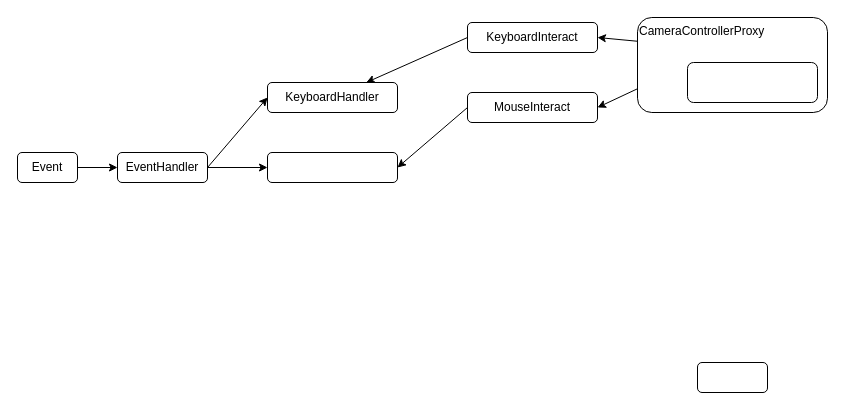
Some shapes in this 845 by 410 pixel diagram are drawn without their labels. The shapes that lost their labels are listed below. From the top down, each one's box as (x1, y1, x2, y2) in pixels, then its label:
(686, 62, 818, 102): CameraController
(266, 152, 398, 182): MouseHandler
(696, 362, 768, 392): Camera
